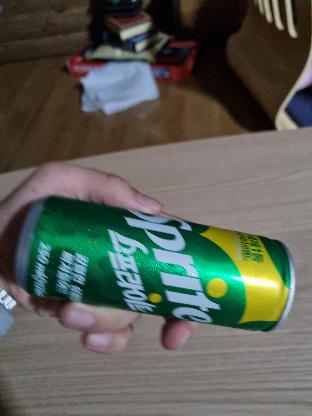Can: (11, 180, 292, 336)
